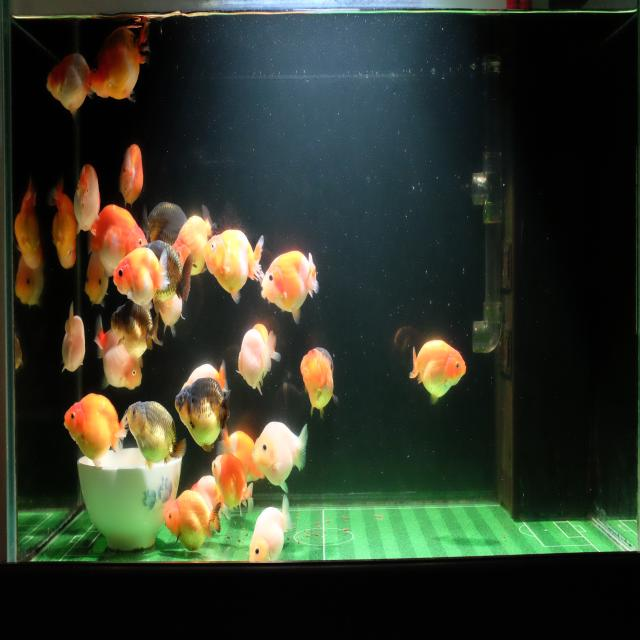Tilapia: (62, 388, 131, 474), (88, 17, 152, 103), (84, 198, 149, 280), (202, 226, 265, 306), (125, 398, 190, 474), (174, 375, 233, 454), (251, 418, 309, 498), (261, 248, 321, 325), (408, 337, 468, 408), (91, 313, 144, 391), (44, 48, 95, 128), (112, 246, 171, 313), (163, 492, 222, 555), (171, 201, 219, 278), (109, 301, 165, 364), (246, 494, 293, 566), (299, 344, 342, 422), (143, 240, 192, 307), (216, 424, 266, 486), (48, 181, 80, 275), (14, 178, 45, 274), (210, 452, 254, 519), (236, 328, 276, 397), (71, 158, 103, 240), (140, 194, 188, 246), (59, 298, 87, 377), (118, 136, 145, 214), (82, 248, 112, 309), (15, 250, 45, 310), (157, 290, 189, 342)
